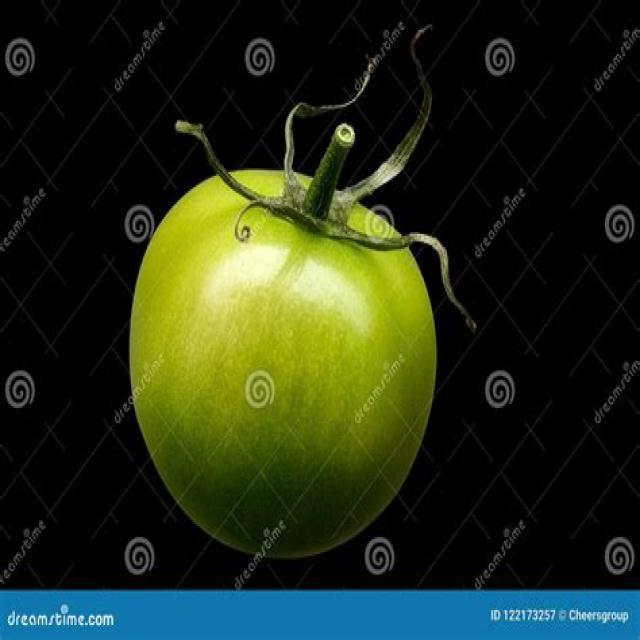Tomato: (128, 128, 455, 564)
